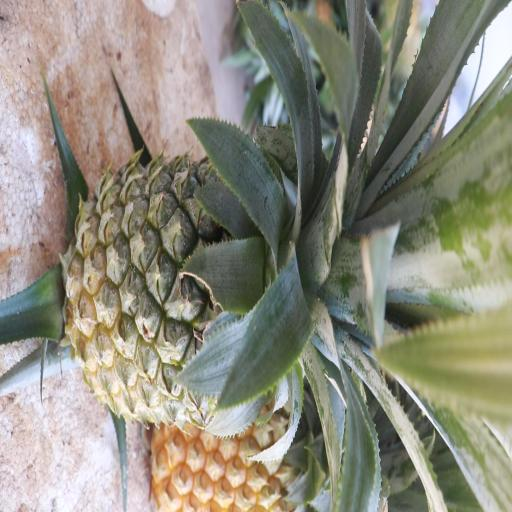------------------------------: (76, 144, 357, 421)
Pineapple - v8 v1: (153, 398, 353, 512)
